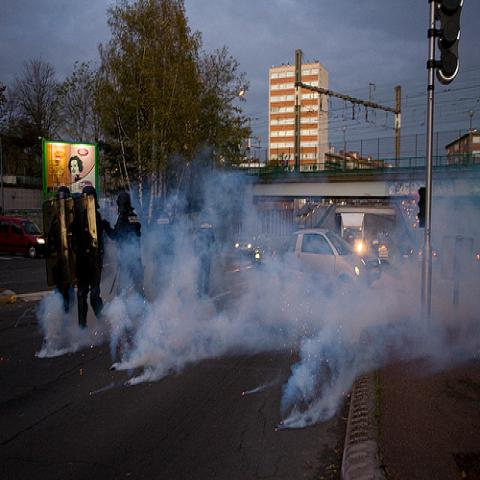car: (283, 228, 383, 287), (1, 216, 48, 259), (253, 235, 283, 269), (235, 236, 253, 255)
truck: (342, 214, 366, 254)
